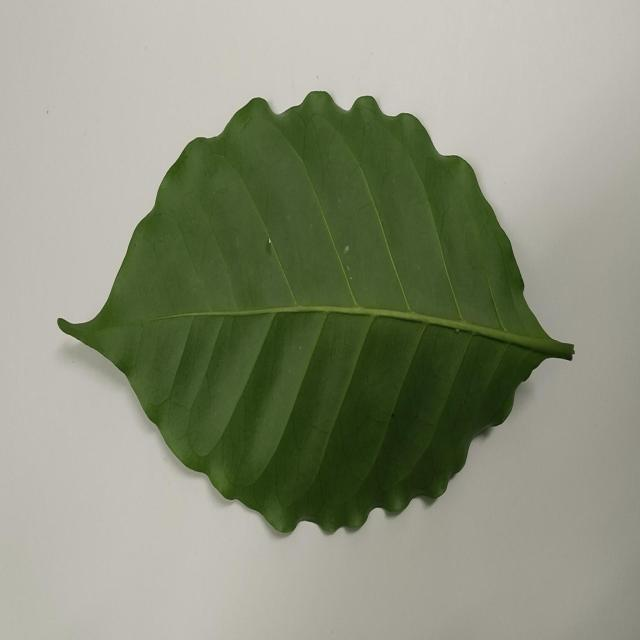Sanas: (56, 92, 576, 538)
